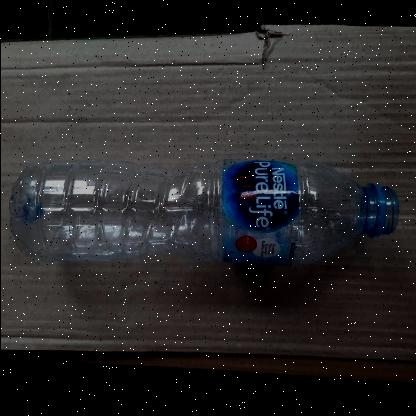Plastic Bottle: (10, 158, 398, 268)
